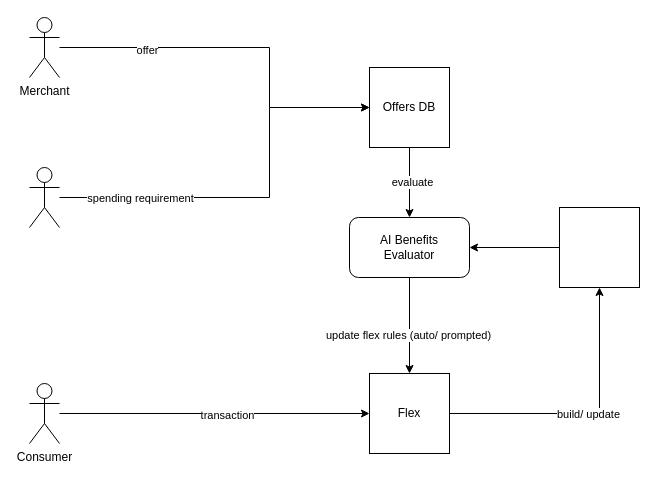
The diagram is 657 pixels wide and 482 high, and some of its shapes have lost their labels. Here are the shapes that lost their labels. From the top down, the centre of each, then its label:
pixel 44 197: Issuer
pixel 599 247: Persona
